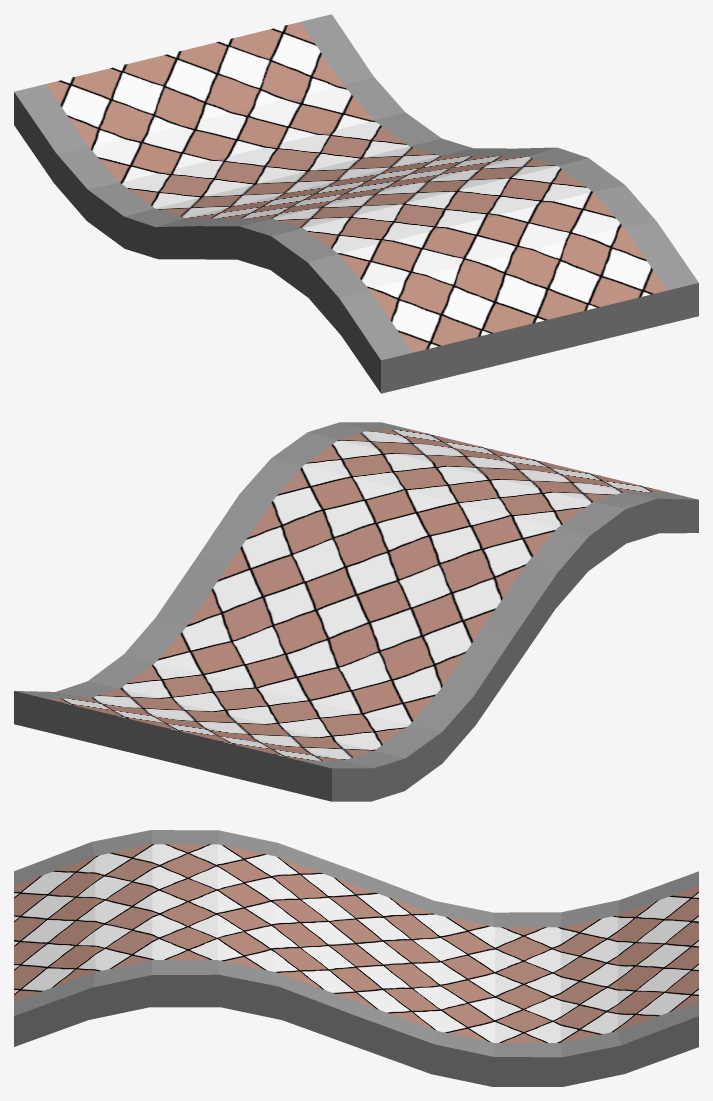
File: sinchunk.fbx
The picture shows the model from 3 angles, top to bottom: view 1: azimuth 30°, elevation 25°; view 2: azimuth 150°, elevation 25°; view 3: azimuth 270°, elevation 25°; orthographic projection. The views are drawn at different scales.
Parts seen in each view (by area): view 1: sinchunk.001, sinchunk.010, sinchunk.002, sinchunk.009, sinchunk.003, sinchunk.008, sinchunk.004, sinchunk.007, sinchunk.005, sinchunk.006; view 2: sinchunk.005, sinchunk.006, sinchunk.010, sinchunk.004, sinchunk.007, sinchunk.003, sinchunk.008, sinchunk.002, sinchunk.009, sinchunk.001; view 3: sinchunk.001, sinchunk.005, sinchunk.010, sinchunk.006, sinchunk.003, sinchunk.008, sinchunk.002, sinchunk.009, sinchunk.004, sinchunk.007.
Boxes of the visible parts, x1,y1,x2,y2 form: sinchunk.001: (339, 221, 698, 393); sinchunk.010: (14, 14, 373, 182); sinchunk.002: (307, 185, 656, 335); sinchunk.009: (54, 76, 404, 220); sinchunk.003: (270, 158, 624, 297); sinchunk.008: (86, 112, 441, 248); sinchunk.004: (237, 147, 588, 269); sinchunk.007: (124, 138, 472, 258); sinchunk.005: (197, 147, 555, 259); sinchunk.006: (156, 148, 513, 259); sinchunk.005: (197, 494, 557, 666); sinchunk.006: (155, 556, 515, 724); sinchunk.010: (14, 691, 373, 801); sinchunk.004: (239, 458, 588, 608); sinchunk.007: (124, 618, 475, 762); sinchunk.003: (271, 432, 626, 570); sinchunk.008: (87, 654, 442, 790); sinchunk.002: (308, 422, 658, 543); sinchunk.009: (56, 681, 405, 801); sinchunk.001: (339, 422, 698, 533); sinchunk.001: (14, 842, 95, 1046); sinchunk.005: (275, 843, 356, 1046); sinchunk.010: (617, 871, 698, 1073); sinchunk.006: (356, 871, 437, 1073); sinchunk.003: (150, 830, 220, 1007); sinchunk.008: (492, 912, 562, 1086); sinchunk.002: (88, 830, 152, 1019); sinchunk.009: (560, 899, 624, 1086); sinchunk.004: (218, 830, 281, 1019); sinchunk.007: (431, 901, 494, 1086).
Size of the model in its own units: 50 by 100 by 18.09.
